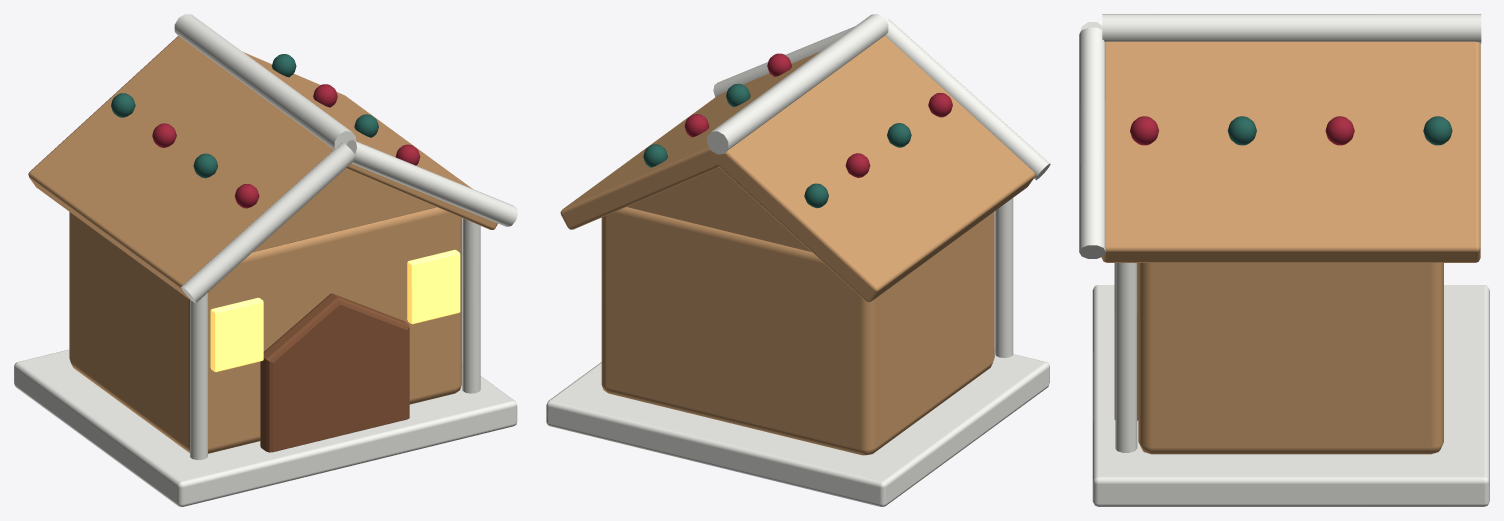
The model's file is gbhouse.glb.
The picture shows the model from 3 angles, left to right: view 1: azimuth 30°, elevation 25°; view 2: azimuth 150°, elevation 25°; view 3: azimuth 270°, elevation 25°; orthographic projection. The views are drawn at different scales.
Parts seen in each view (by area): view 1: biscuit, cream, oak, light, pine, berry; view 2: biscuit, cream, pine, berry; view 3: biscuit, cream, pine, berry, oak.
Part boxes in pixels (left/top/right/bottom): biscuit: left=28, top=36, right=497, bottom=453; cream: left=14, top=14, right=517, bottom=506; oak: left=260, top=293, right=409, bottom=452; light: left=210, top=249, right=460, bottom=372; pine: left=111, top=54, right=378, bottom=178; berry: left=152, top=84, right=420, bottom=208; biscuit: left=560, top=35, right=1035, bottom=455; cream: left=546, top=14, right=1050, bottom=506; pine: left=643, top=83, right=911, bottom=208; berry: left=684, top=53, right=952, bottom=177; biscuit: left=1101, top=41, right=1480, bottom=454; cream: left=1079, top=14, right=1489, bottom=506; pine: left=1227, top=116, right=1452, bottom=145; berry: left=1130, top=116, right=1354, bottom=145; oak: left=1114, top=263, right=1138, bottom=420.
Size of the model in its own units: 0.76 by 0.715 by 0.672.
